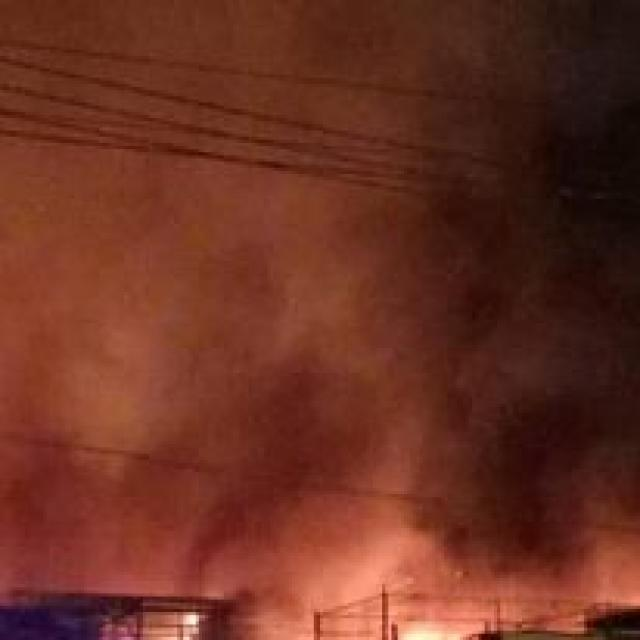Fire: (305, 550, 541, 640)
Smoke: (388, 12, 640, 577)
